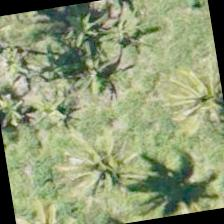Kelapa_Sawit: (49, 113, 152, 216), (145, 49, 223, 150)
